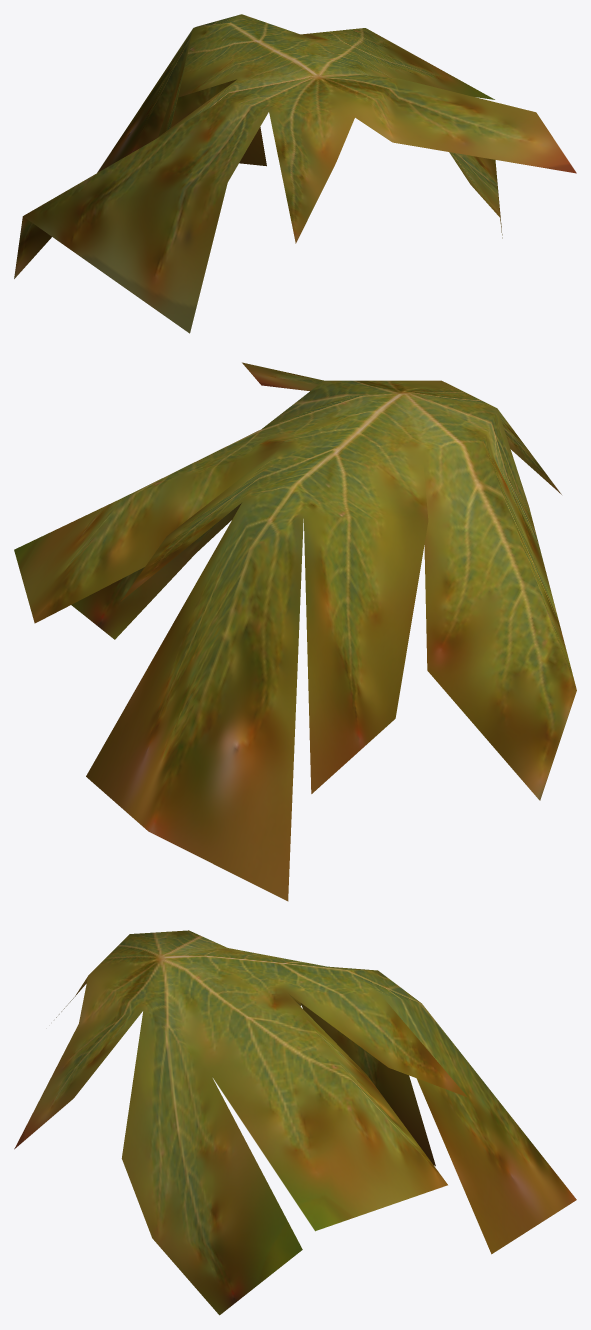
File: Papaya_Leaf02_LOD0.fbx
The picture shows the model from 3 angles, top to bottom: view 1: azimuth 30°, elevation 25°; view 2: azimuth 150°, elevation 25°; view 3: azimuth 270°, elevation 25°; orthographic projection. The views are drawn at different scales.
Visible parts, largest first — view 1: papaya_leaf01_dead_LOD0; view 2: papaya_leaf01_dead_LOD0; view 3: papaya_leaf01_dead_LOD0.
Boxes of the visible parts, x1,y1,x2,y2 form: papaya_leaf01_dead_LOD0: [14, 14, 576, 333]; papaya_leaf01_dead_LOD0: [14, 362, 576, 901]; papaya_leaf01_dead_LOD0: [14, 930, 576, 1315].
Bounding box in the file's own units: 0.6213 × 0.3455 × 0.614.
